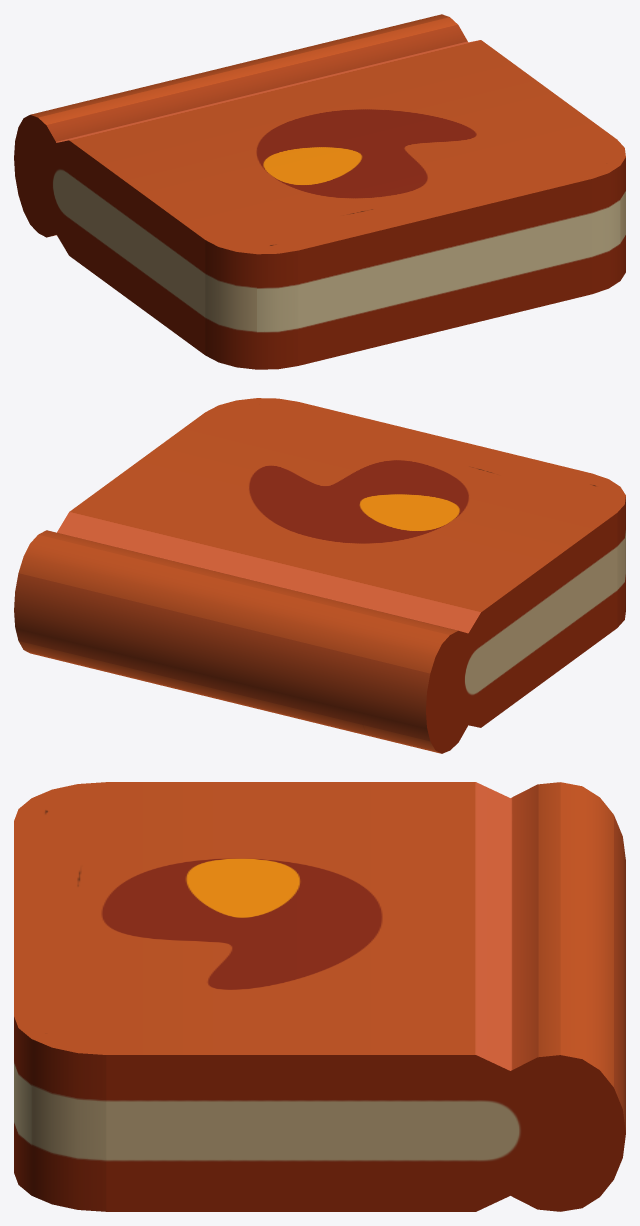
The model's file is Book.fbx.
The picture shows the model from 3 angles, top to bottom: view 1: azimuth 30°, elevation 25°; view 2: azimuth 150°, elevation 25°; view 3: azimuth 270°, elevation 25°; orthographic projection. The views are drawn at different scales.
Parts seen in each view (by area): view 1: Book; view 2: Book; view 3: Book.
Part boxes in pixels (bbox=[...]): Book: bbox=[14, 14, 625, 369]; Book: bbox=[14, 398, 625, 753]; Book: bbox=[14, 782, 625, 1211].
Size of the model in its own units: 157 by 42.16 by 149.
